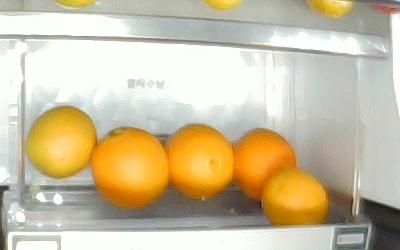orange: (91, 126, 168, 211), (163, 123, 233, 199), (27, 105, 96, 179), (233, 128, 297, 200), (262, 168, 328, 223)
